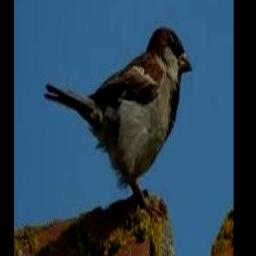Sparrow: (44, 27, 192, 219)
